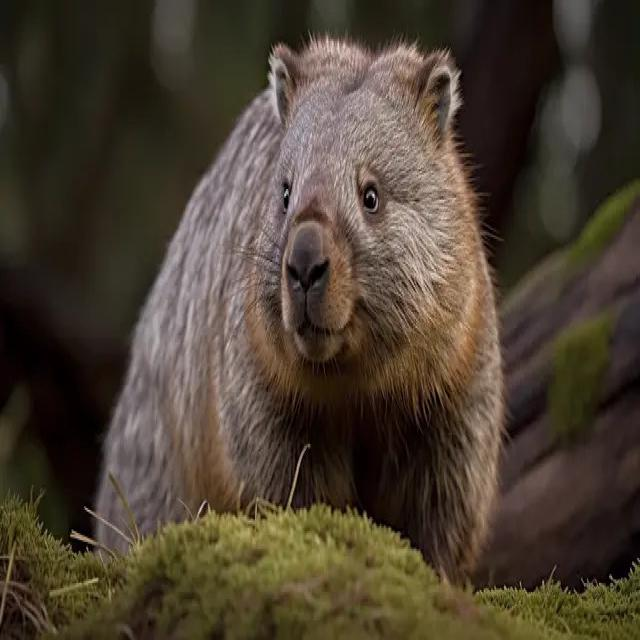Wombat: (85, 31, 507, 586)
